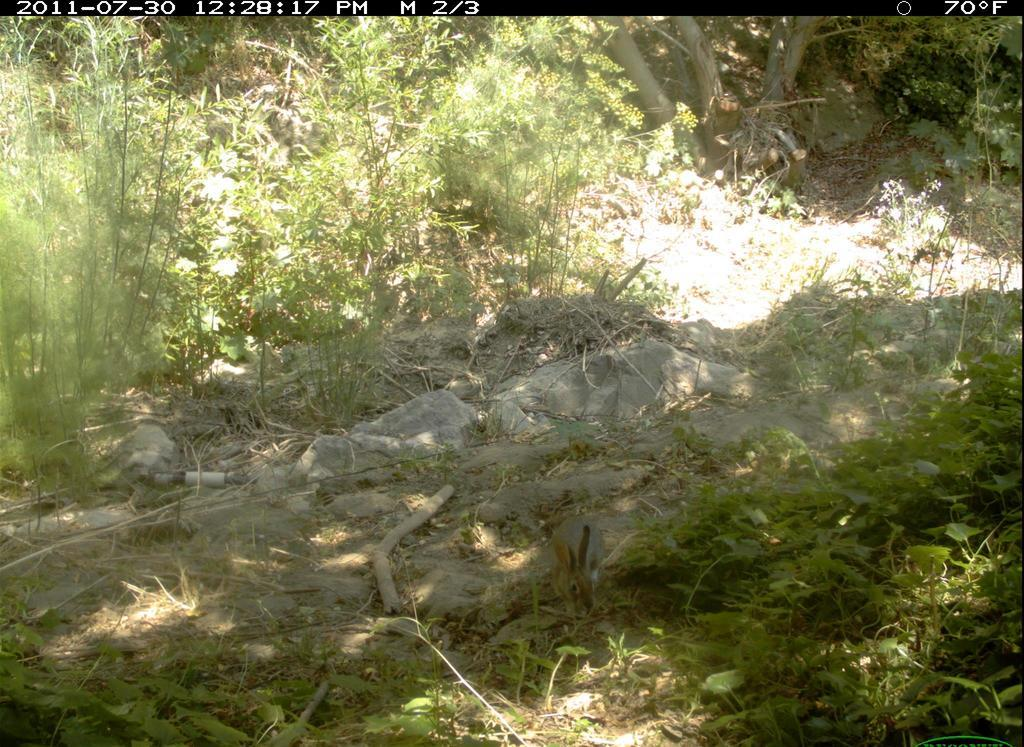rabbit: (539, 502, 629, 641)
